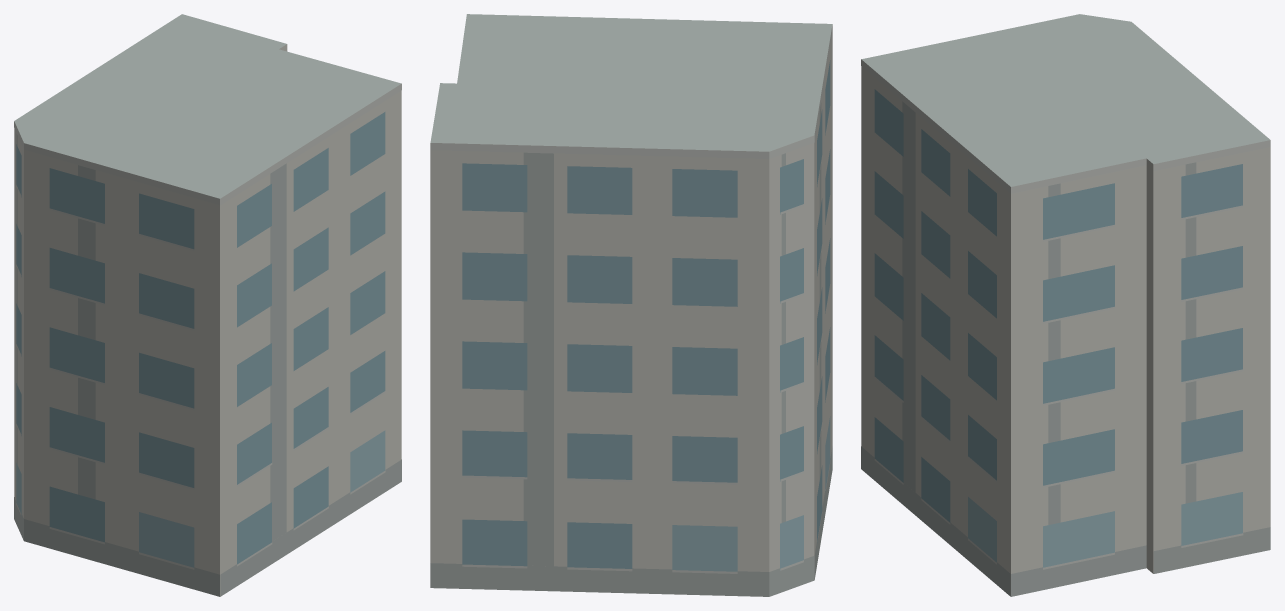
Rendered from survey-upis-32862262.glb.
3 renders of one model, left to right at view 1: azimuth 30°, elevation 25°; view 2: azimuth 150°, elevation 25°; view 3: azimuth 270°, elevation 25°, orthographic. The views are drawn at different scales.
Parts seen in each view (by area): view 1: survey-upis-32862262.tmp; view 2: survey-upis-32862262.tmp; view 3: survey-upis-32862262.tmp.
Part boxes in pixels (x1=…): survey-upis-32862262.tmp: x1=14, y1=14, x2=401, y2=596; survey-upis-32862262.tmp: x1=430, y1=14, x2=832, y2=596; survey-upis-32862262.tmp: x1=861, y1=14, x2=1270, y2=596.
Bounding box in the file's own units: 13.18 × 14.55 × 13.18.
